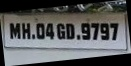character: (8, 22, 20, 39), (80, 22, 90, 40), (99, 22, 109, 40), (21, 22, 31, 39), (109, 22, 118, 40), (65, 23, 75, 39), (35, 22, 44, 39), (45, 22, 54, 39), (56, 22, 65, 39), (90, 22, 98, 40)
